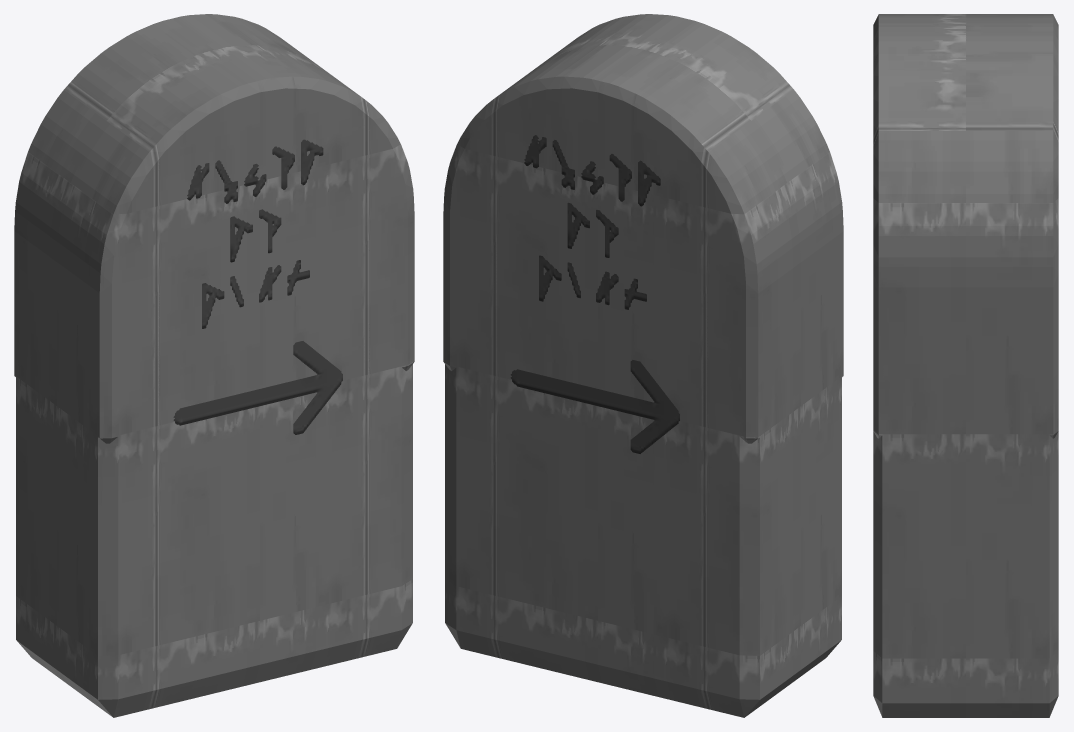
File: sign3.glb
The picture shows the model from 3 angles, left to right: view 1: azimuth 30°, elevation 25°; view 2: azimuth 150°, elevation 25°; view 3: azimuth 270°, elevation 25°; orthographic projection. The views are drawn at different scales.
Parts seen in each view (by area): view 1: box; view 2: box; view 3: box.
Boxes of the visible parts, x1=… form: box: x1=14, y1=14, x2=414, y2=717; box: x1=443, y1=14, x2=843, y2=717; box: x1=873, y1=14, x2=1058, y2=717.
Bounding box in the file's own units: 0.5484 × 1 × 0.2771.
3 materials, 3 textured.
